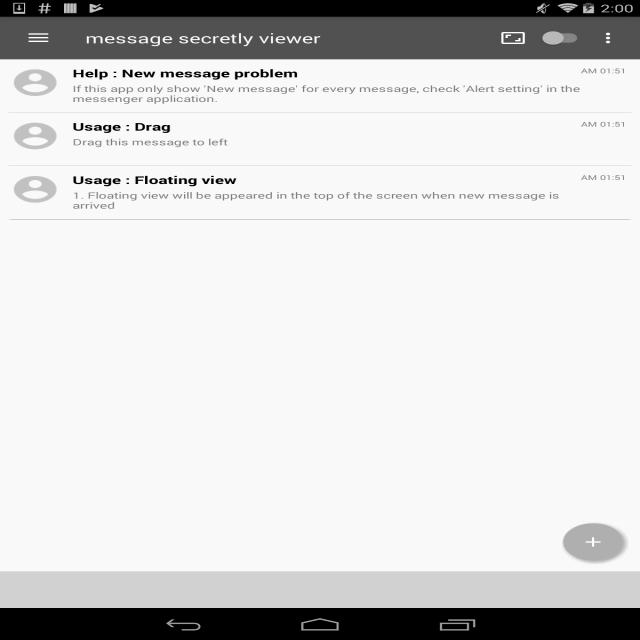ImageButton: (557, 519, 629, 565), (9, 17, 68, 59)
ImageView: (8, 119, 62, 153), (8, 66, 62, 99), (8, 173, 62, 206), (589, 22, 631, 54), (580, 534, 606, 550)
Switch: (538, 17, 588, 59)
TextView: (67, 189, 589, 216), (67, 83, 589, 109), (67, 136, 589, 162), (67, 62, 576, 82), (67, 116, 576, 136), (67, 170, 576, 190), (86, 29, 320, 47), (488, 22, 538, 54), (576, 62, 632, 82), (576, 116, 632, 136), (576, 170, 632, 190)
